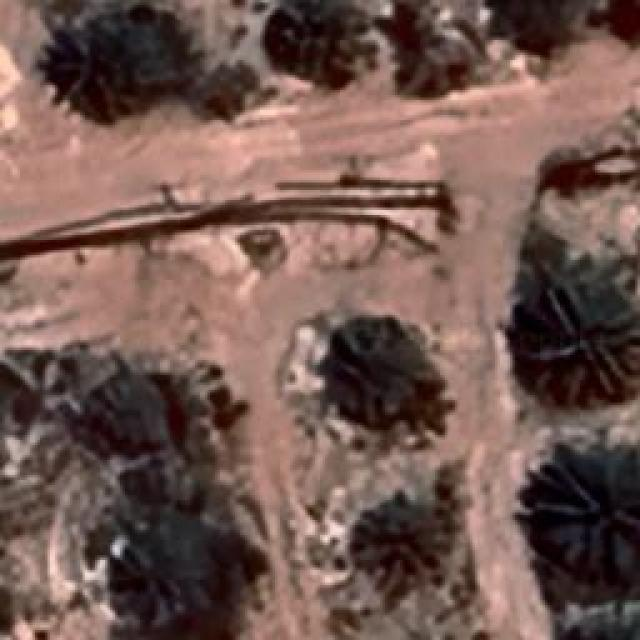PalmTree: (320, 317, 448, 445), (532, 440, 637, 575), (530, 282, 635, 402), (107, 512, 205, 626), (61, 17, 161, 122), (352, 488, 448, 594), (260, 0, 370, 85), (381, 5, 491, 90), (91, 378, 179, 452), (487, 0, 599, 55), (552, 607, 640, 639)
